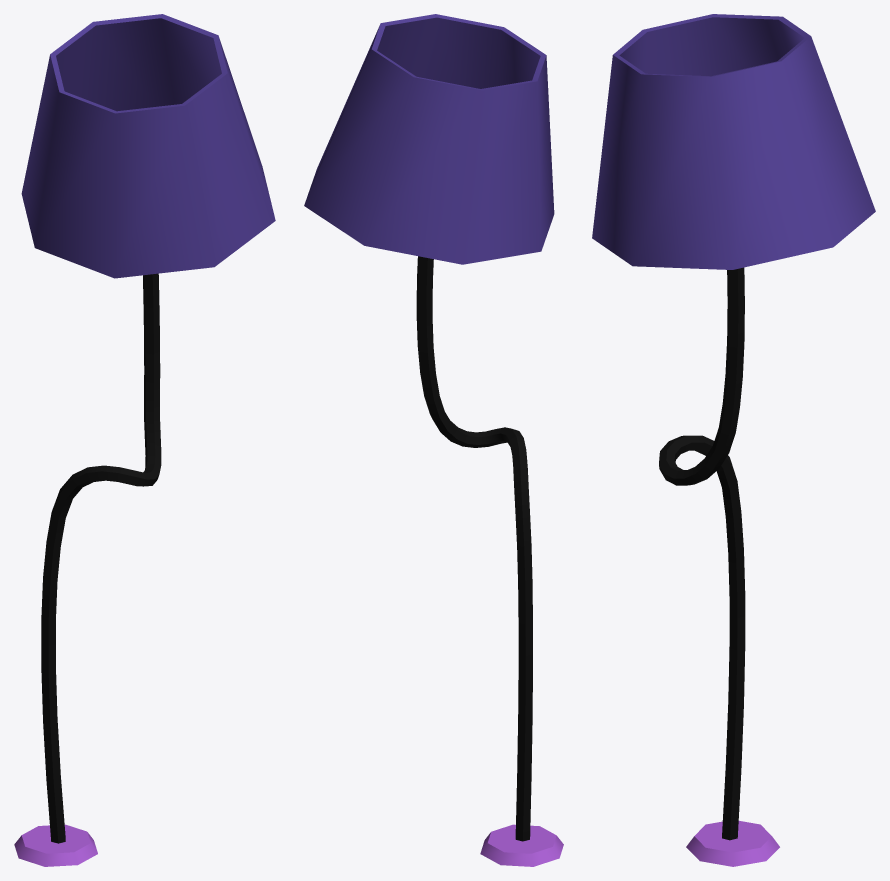
Rendered from lamp_v3.FBX.
3 renders of one model, left to right at view 1: azimuth 30°, elevation 25°; view 2: azimuth 150°, elevation 25°; view 3: azimuth 270°, elevation 25°, orthographic. The views are drawn at different scales.
Parts seen in each view (by area): view 1: lamp_base; view 2: lamp_base; view 3: lamp_base.
Boxes of the visible parts, box(x1,y1,x2,y2) form: lamp_base: box(14, 14, 275, 866); lamp_base: box(304, 14, 563, 866); lamp_base: box(592, 14, 875, 866).
Bounding box in the file's own units: 34.78 × 107 × 32.37.
